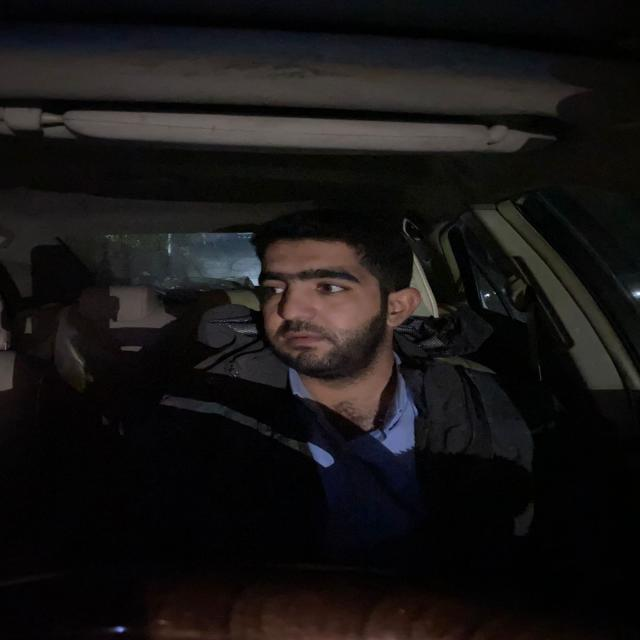person: (244, 215, 417, 382)
